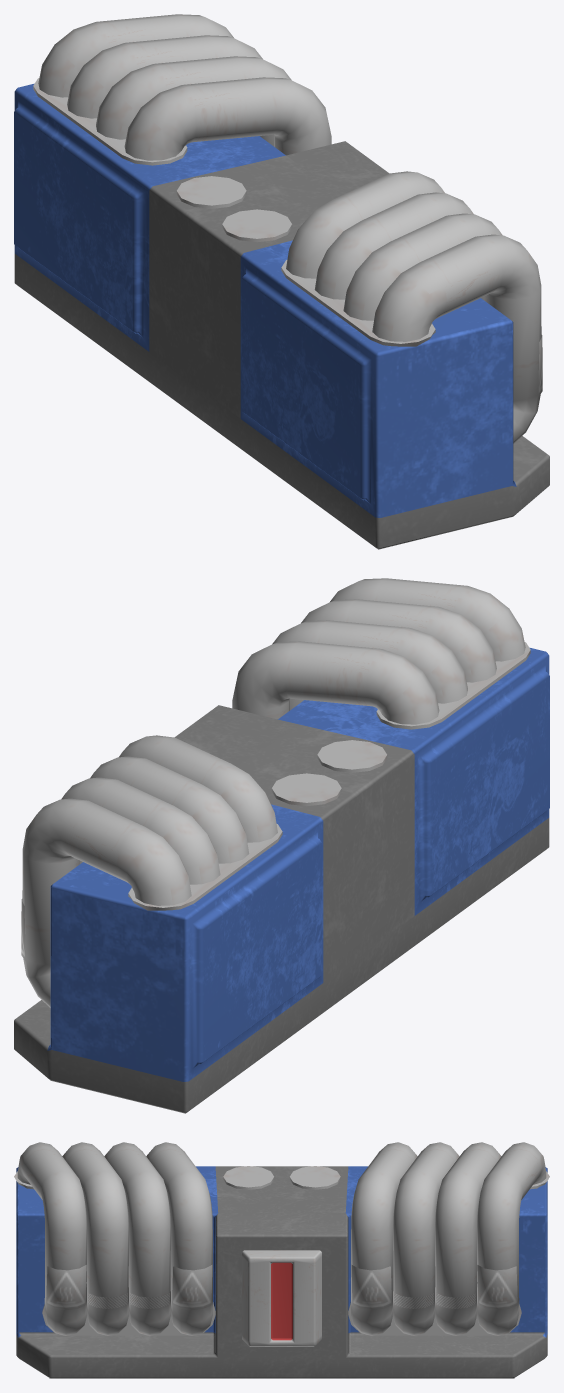
Rendered from SM_UPF-Cannon_AVPC-90.fbx.
The picture shows the model from 3 angles, top to bottom: view 1: azimuth 30°, elevation 25°; view 2: azimuth 150°, elevation 25°; view 3: azimuth 270°, elevation 25°; orthographic projection. The views are drawn at different scales.
Parts seen in each view (by area): view 1: Generator, Cylinder.011, Cylinder.010, Cylinder.012; view 2: Generator, Cylinder.011, Cylinder.010, Cylinder.012; view 3: Cylinder.011, Generator, Cylinder.013, Cube.012, Cylinder.010, Cylinder.012.
Boxes of the visible parts, bbox=[...] form: Generator: bbox=[14, 83, 549, 549]; Cylinder.011: bbox=[38, 14, 541, 443]; Cylinder.010: bbox=[176, 176, 292, 242]; Cylinder.012: bbox=[33, 78, 435, 346]; Generator: bbox=[14, 647, 549, 1113]; Cylinder.011: bbox=[22, 578, 525, 1007]; Cylinder.010: bbox=[271, 740, 387, 806]; Cylinder.012: bbox=[128, 642, 530, 910]; Cylinder.011: bbox=[17, 1142, 546, 1335]; Generator: bbox=[16, 1166, 547, 1378]; Cylinder.013: bbox=[46, 1265, 517, 1309]; Cube.012: bbox=[242, 1250, 321, 1346]; Cylinder.010: bbox=[223, 1166, 340, 1189]; Cylinder.012: bbox=[14, 1171, 549, 1335].
Size of what is drawn, in the model's own units: 570 by 644 by 1614.
